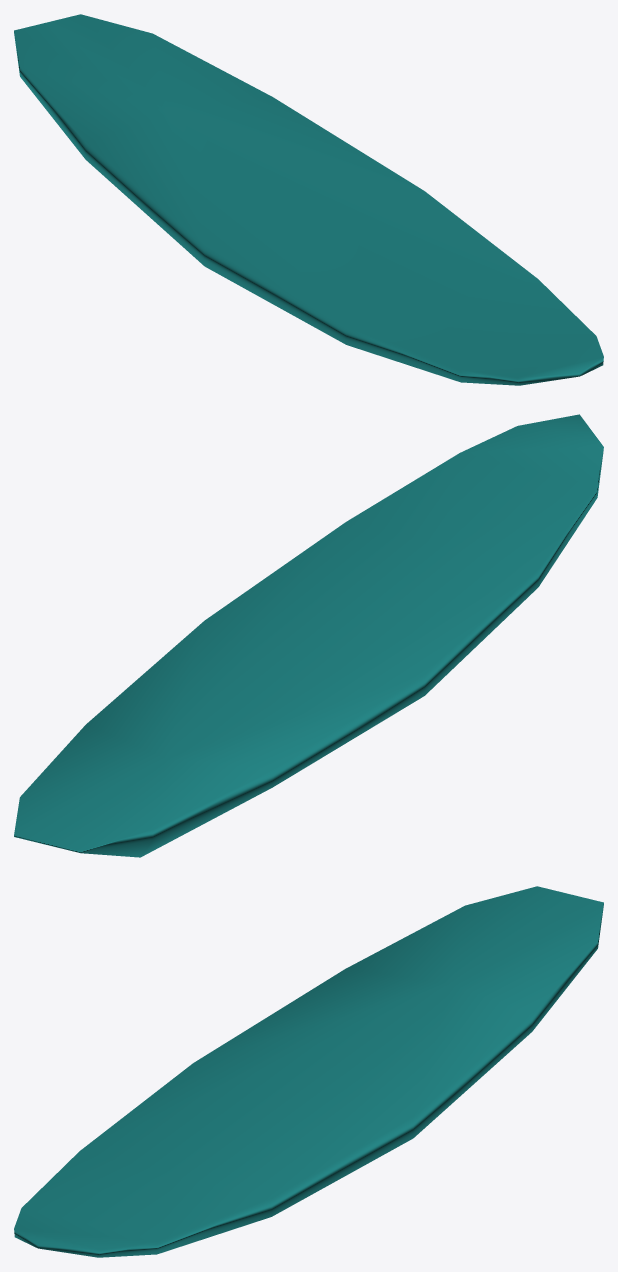
Rendered from surfboard_collider.fbx.
3 renders of one model, top to bottom at view 1: azimuth 30°, elevation 25°; view 2: azimuth 150°, elevation 25°; view 3: azimuth 330°, elevation 25°, orthographic.
Parts seen in each view (by area): view 1: surfboard_collider; view 2: surfboard_collider; view 3: surfboard_collider.
Boxes of the visible parts, <box> form: surfboard_collider: <box>14,14,603,385</box>; surfboard_collider: <box>14,414,603,857</box>; surfboard_collider: <box>14,886,603,1257</box>.
Bounding box in the file's own units: 54.01 × 28.56 × 226.
